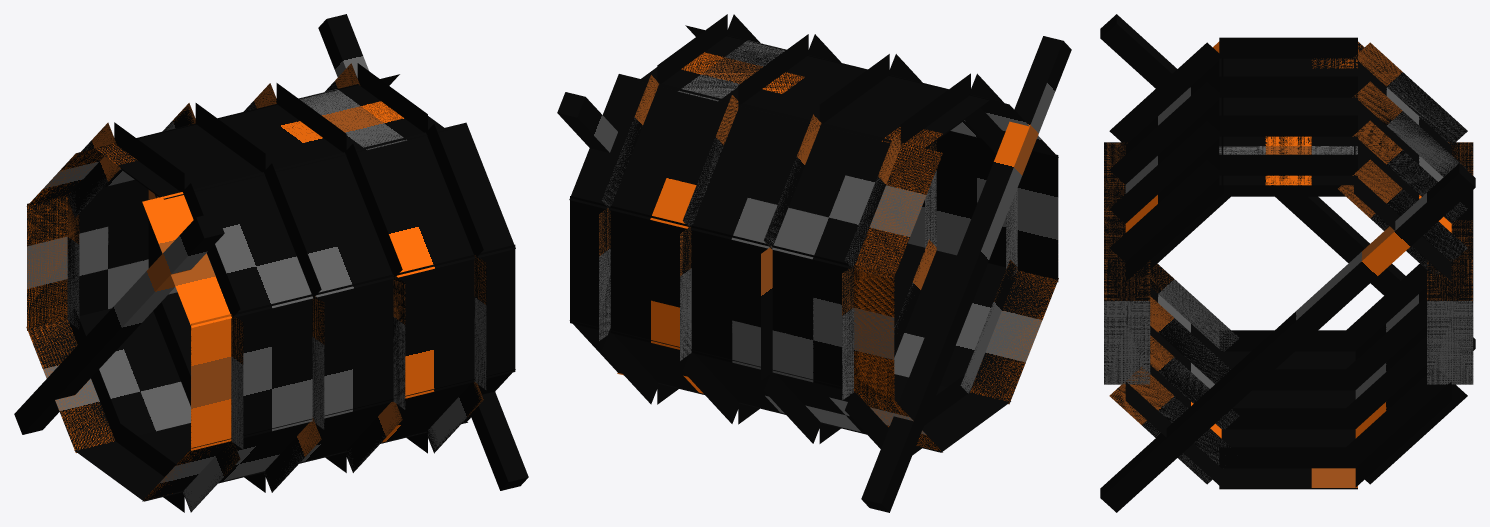
File: barbed_wire_fire.obj
3 renders of one model, left to right at view 1: azimuth 30°, elevation 25°; view 2: azimuth 150°, elevation 25°; view 3: azimuth 270°, elevation 25°, orthographic.
Parts seen in each view (by area): view 1: cube; view 2: cube; view 3: cube.
Part boxes in pixels (<box>): cube: <box>14,14,528,512</box>; cube: <box>557,14,1071,512</box>; cube: <box>1100,14,1475,512</box>.
Size of the model in its own units: 1 by 1.03 by 1.02.
